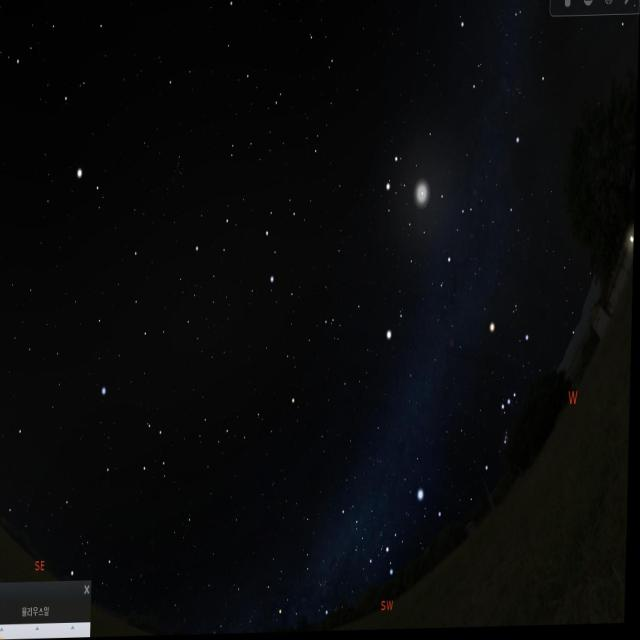bootes: (38, 0, 107, 194)
canis_major: (382, 489, 458, 578)
canis_minor: (382, 306, 418, 350)
gemini: (376, 152, 469, 278)
leo: (186, 186, 301, 304)
moon: (403, 166, 441, 216)
orion: (479, 308, 544, 486)
